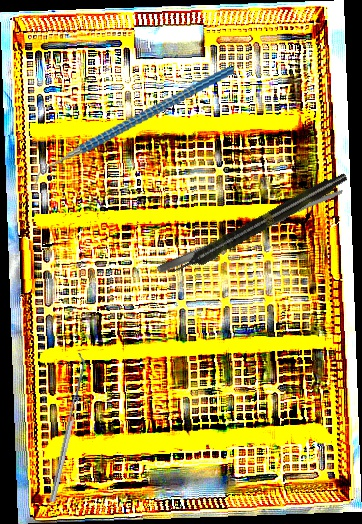Chopper: (17, 66, 248, 191)
Handpiece: (165, 168, 350, 282)
Spatula Surgical: (154, 185, 348, 276), (44, 352, 89, 503)
